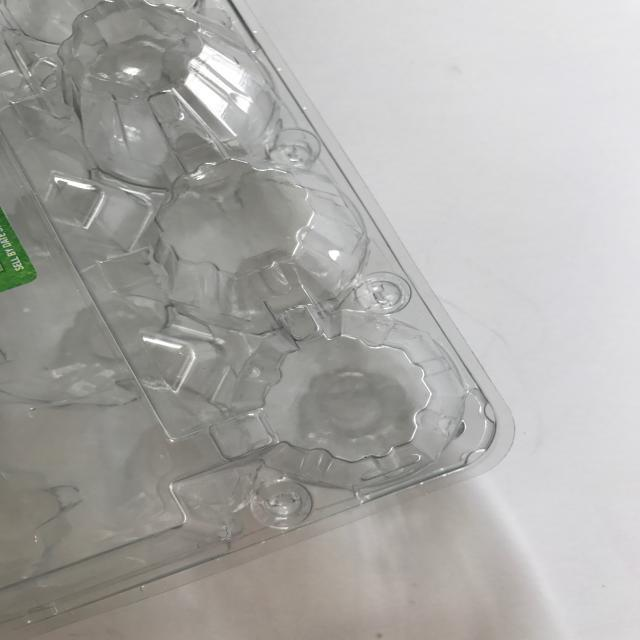plastic: (1, 2, 518, 640)
